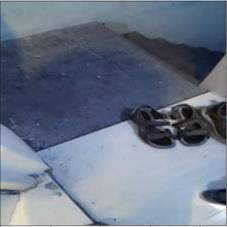Animal: (106, 6, 212, 80)
